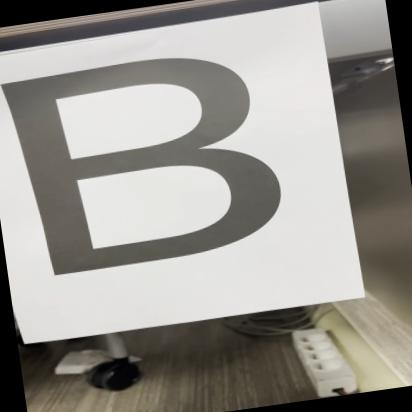seat: (0, 30, 310, 287)
